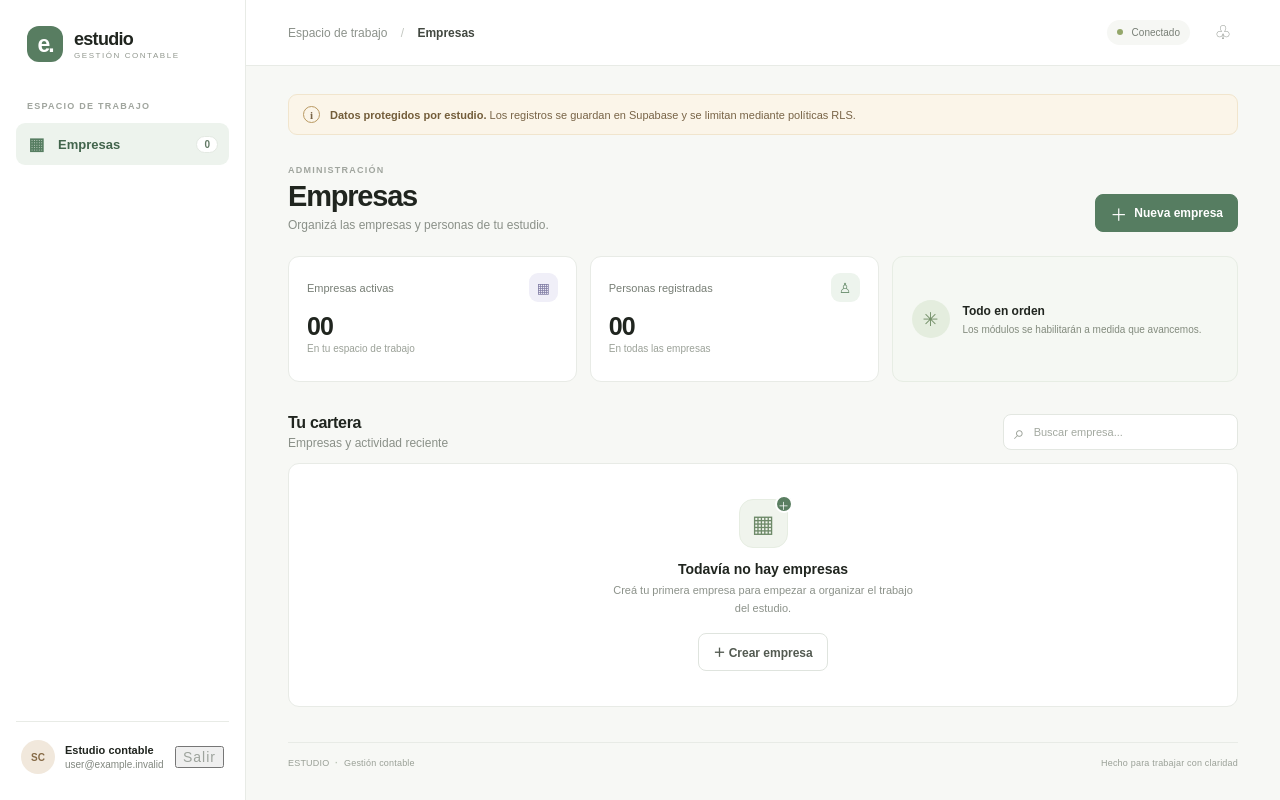
Test: gestión de clientes en Supabase › no inserta una empresa sin cierre de ejercicio para balance
Expected: the heading "Todavía no hay empresas" is shown, [678,561,848,577]
Click the button "＋ Nueva empresa" at [1167, 213], box [1095,194,1238,232]
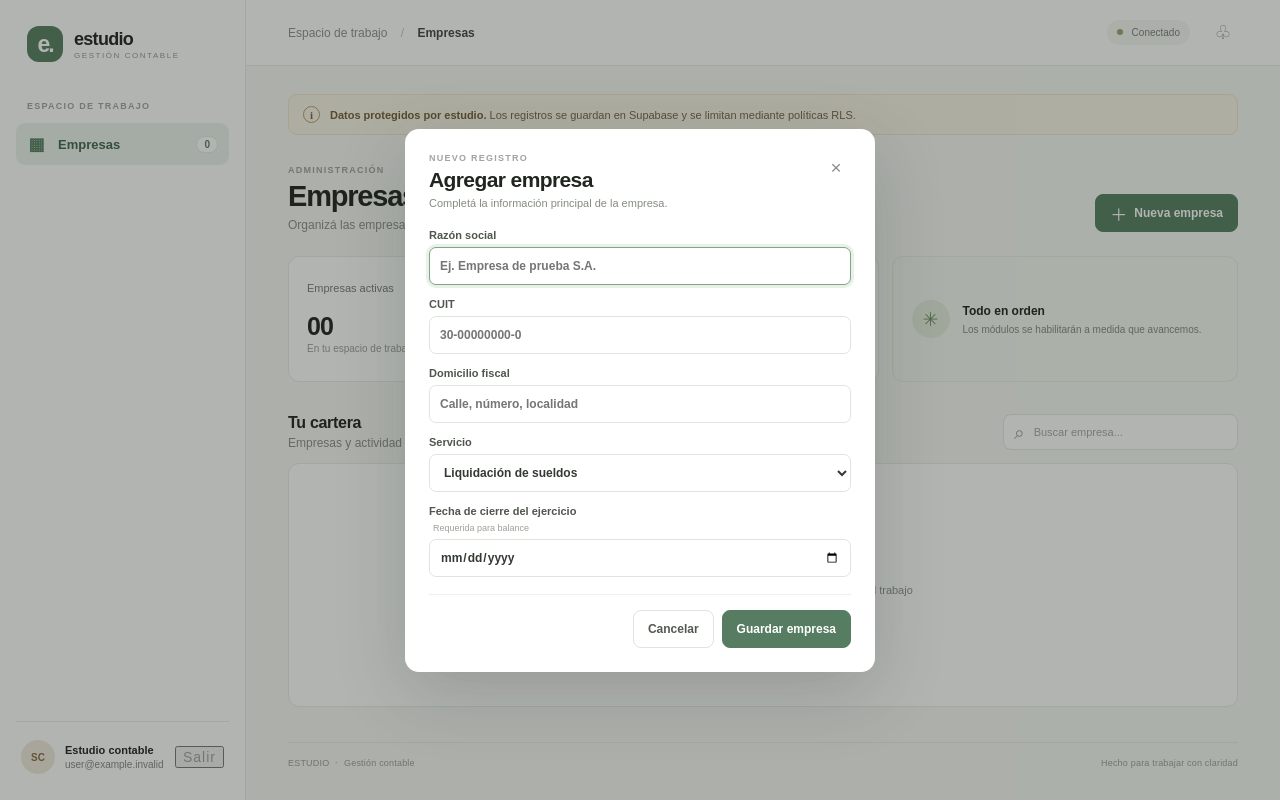
Type "Compañía ficticia" into the field labelled "Razón social" at [640, 266], box [429,246,851,284]
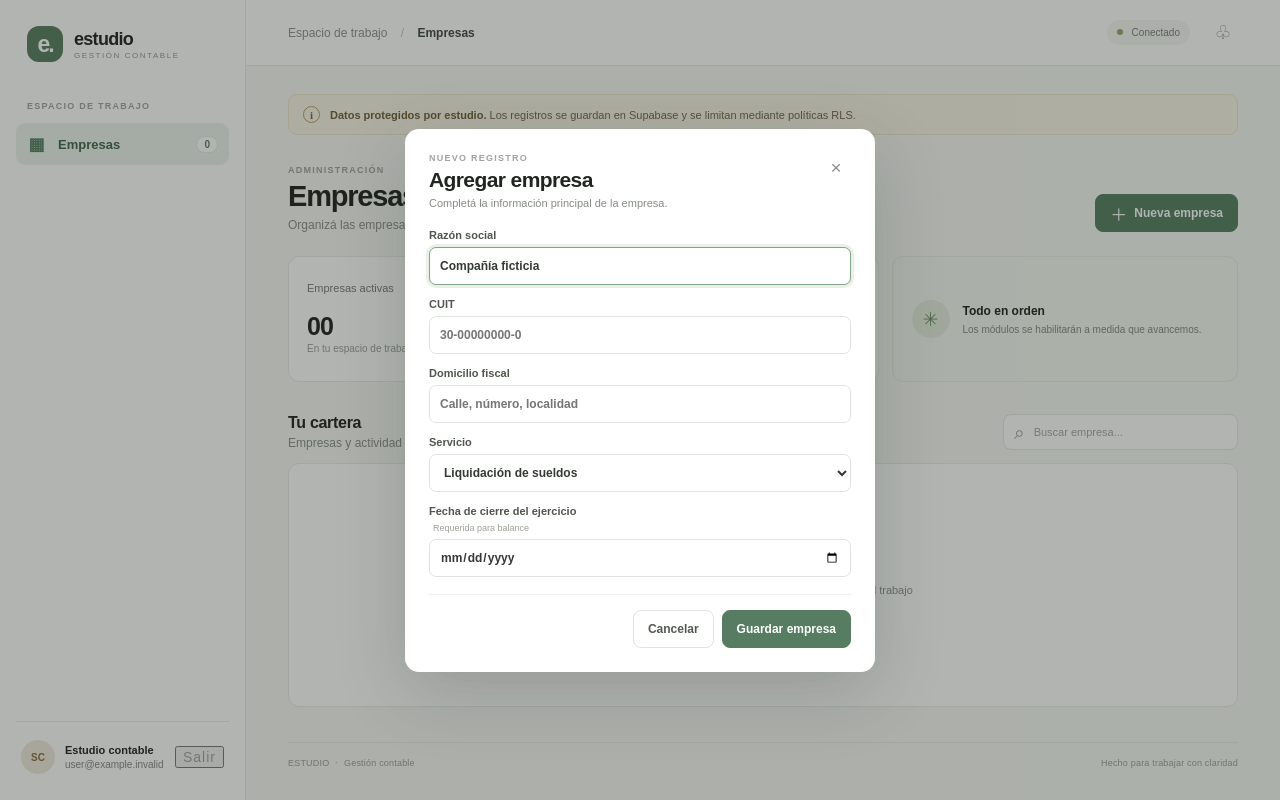
Type "30-00000000-7" into the field labelled "CUIT" at [640, 334], box [429,316,851,354]
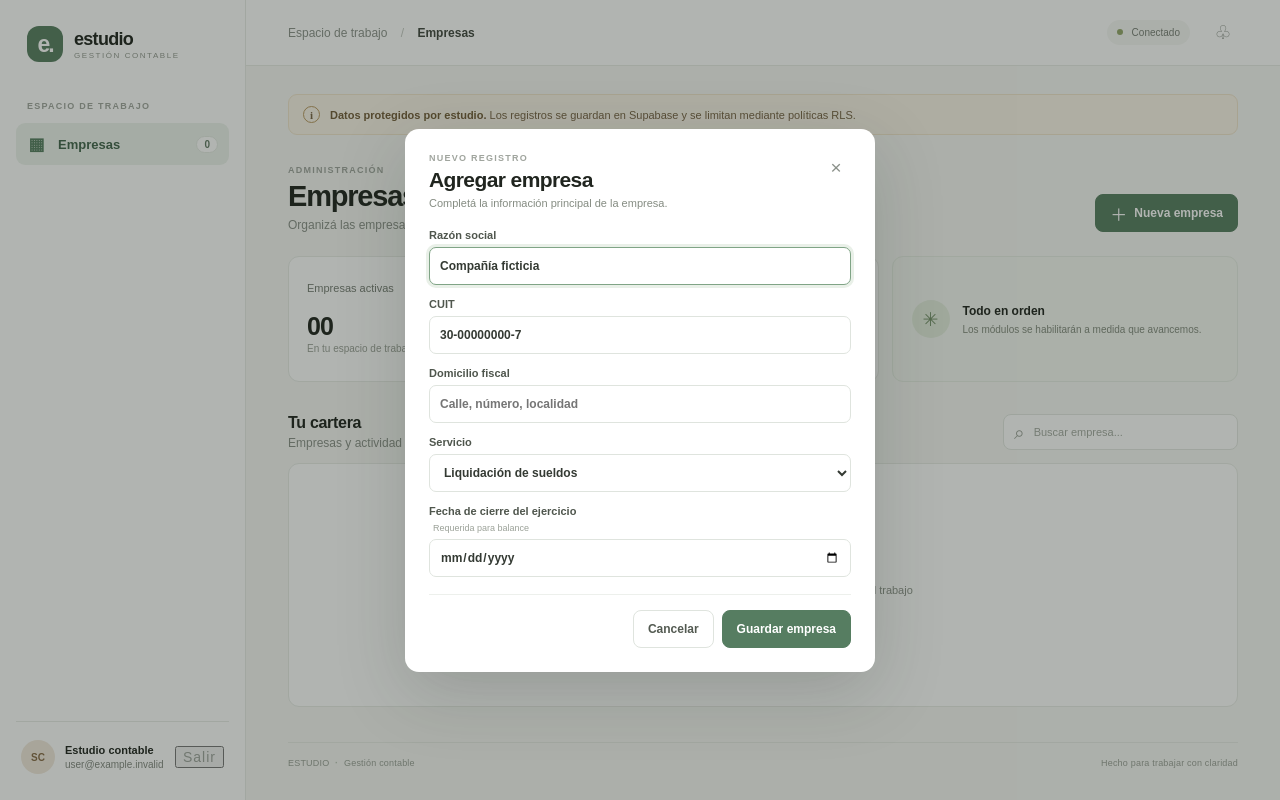
Type "Domicilio de prueba" into the field labelled "Domicilio fiscal" at [640, 404], box [429,384,851,422]
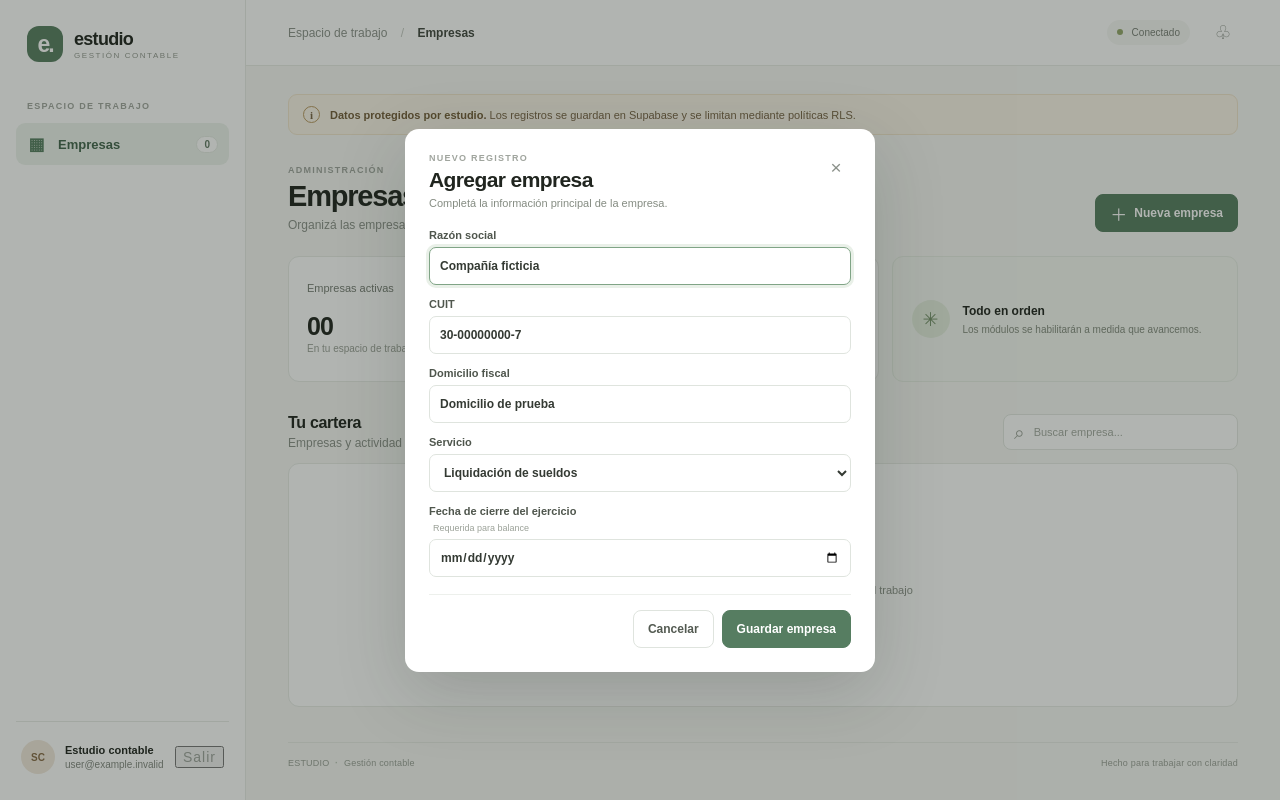
Select "Balance" in the dropdown labelled "Servicio" at [640, 472], box [429,454,851,492]
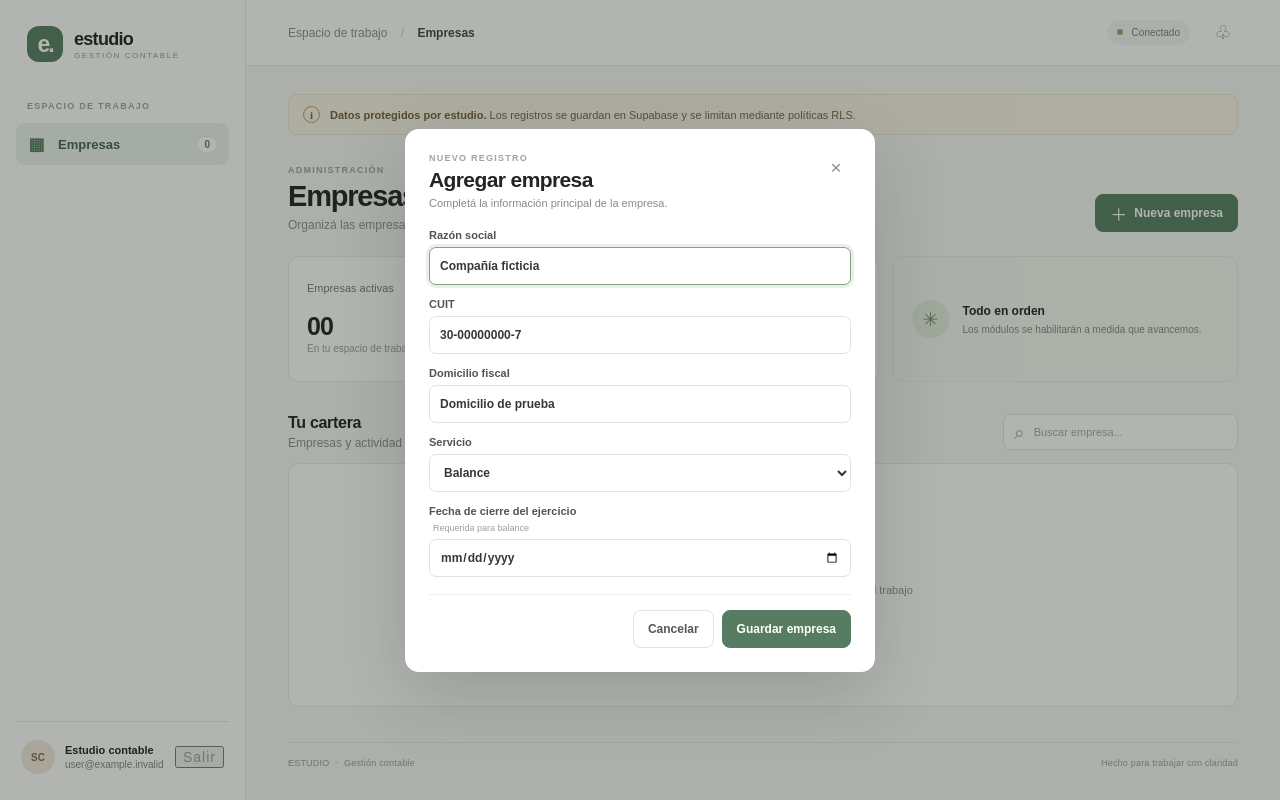
Click the button "Guardar empresa" at [786, 628], box [722,610,851,648]
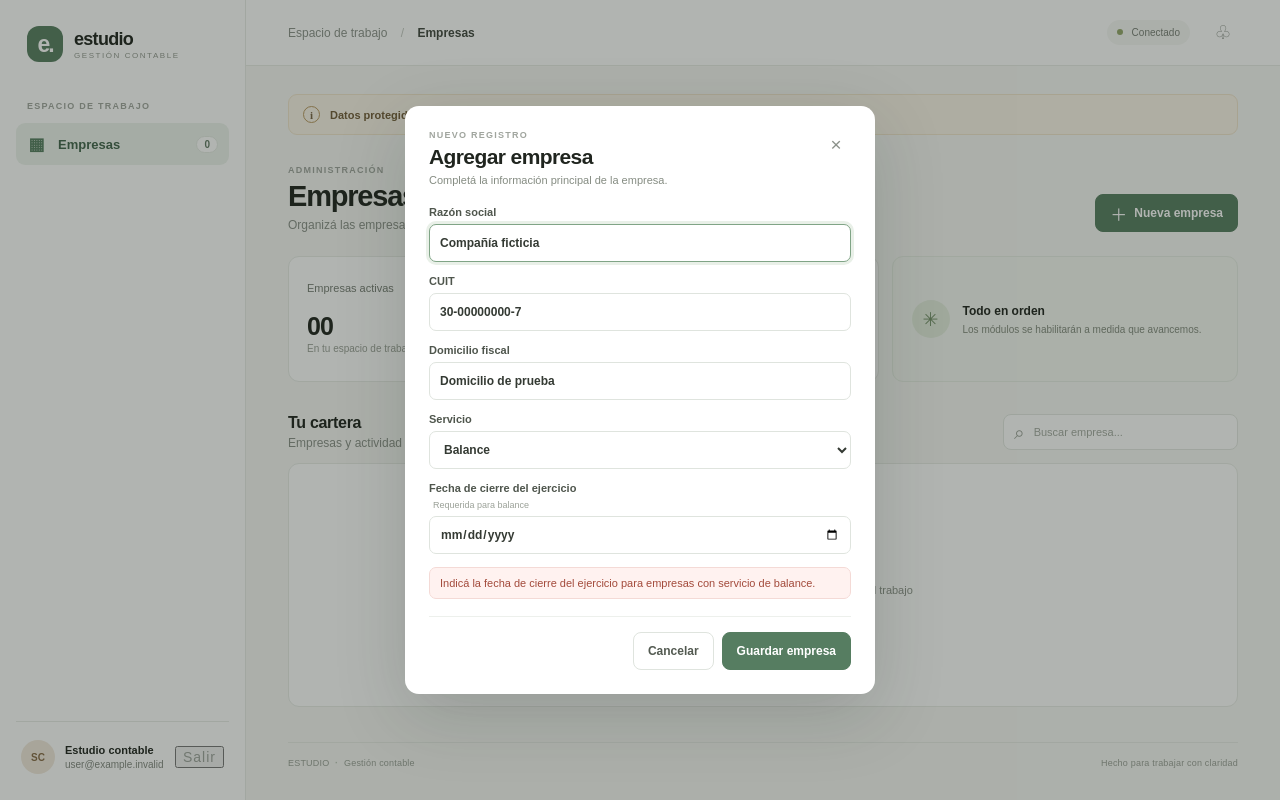
Expected: the message shows "cierre del ejercicio", [440,577,815,589]
